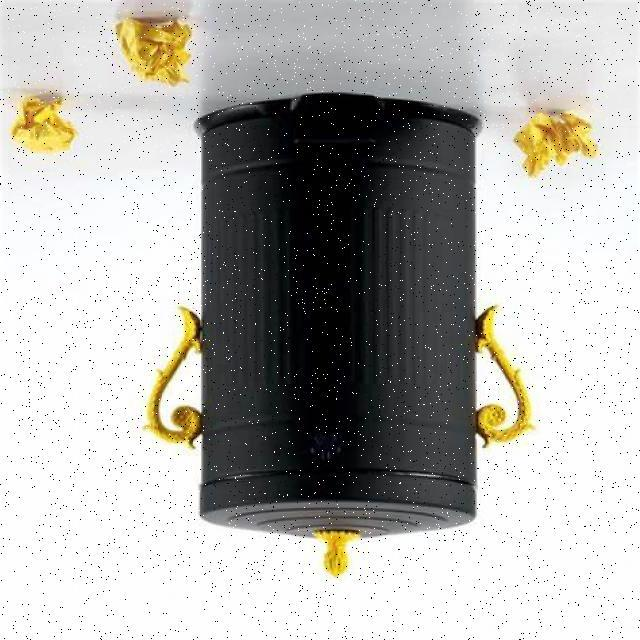garbage container: (133, 86, 543, 587)
